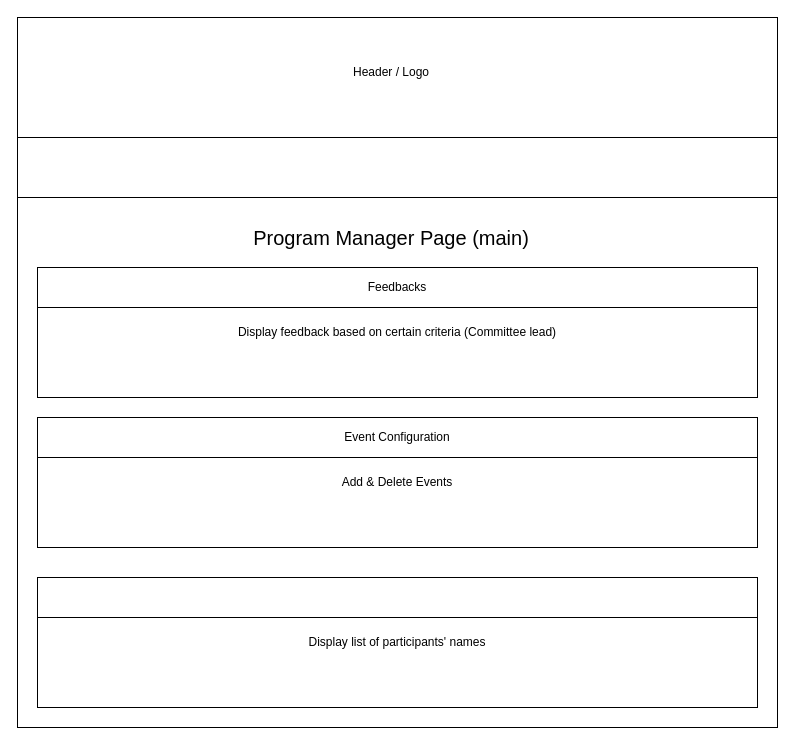
Some shapes in this 795 by 745 pixel diagram are drawn without their labels. The box of each missing label's shape, as (x1, y1, x2, y2) in pixels:
Navbar (If necessary): (16, 136, 778, 198)
Participants List: (36, 576, 758, 618)
